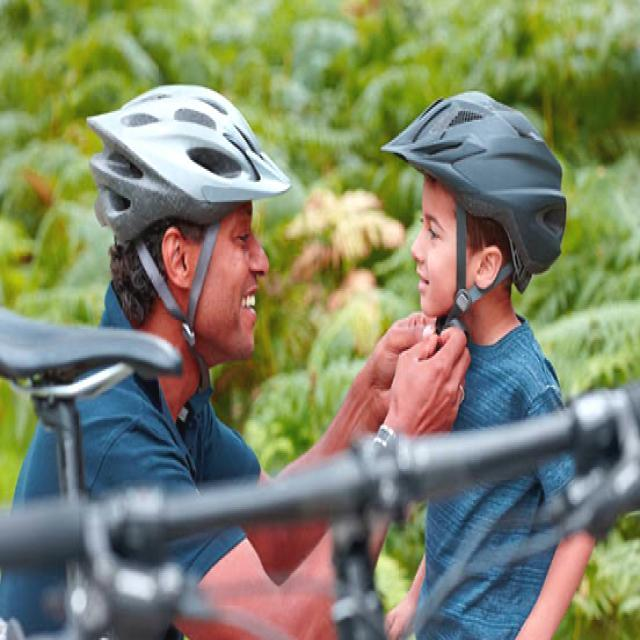Helmet: (81, 65, 300, 362), (378, 84, 581, 320)
